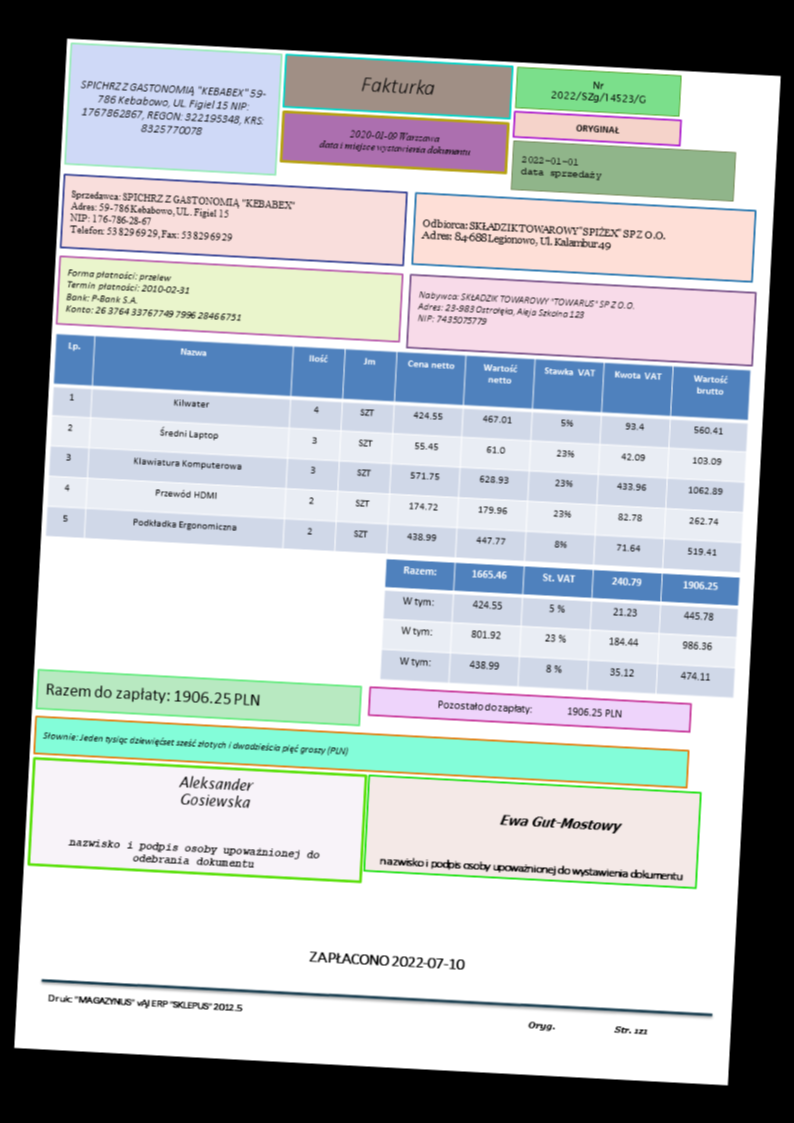Table: (43, 332, 751, 574), (378, 558, 740, 698)
TextBox: (66, 185, 298, 248), (73, 76, 268, 142), (413, 287, 636, 335), (61, 265, 245, 323), (416, 214, 666, 254), (65, 834, 320, 873), (376, 853, 684, 884), (41, 728, 350, 757), (43, 679, 261, 710), (317, 125, 473, 158), (43, 990, 244, 1014), (305, 946, 467, 974), (435, 696, 622, 720), (496, 810, 624, 837), (175, 772, 258, 811), (547, 75, 648, 106), (524, 1017, 650, 1038), (518, 152, 604, 182), (357, 74, 436, 99), (572, 121, 621, 135)
